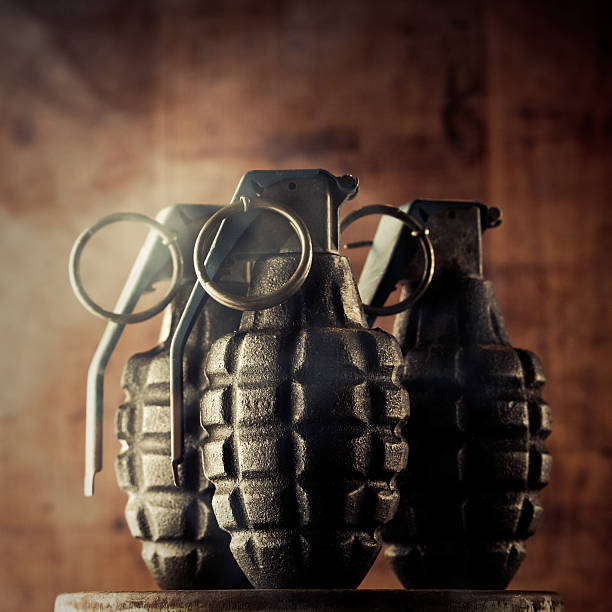e1: (167, 166, 407, 595), (346, 198, 556, 590)
